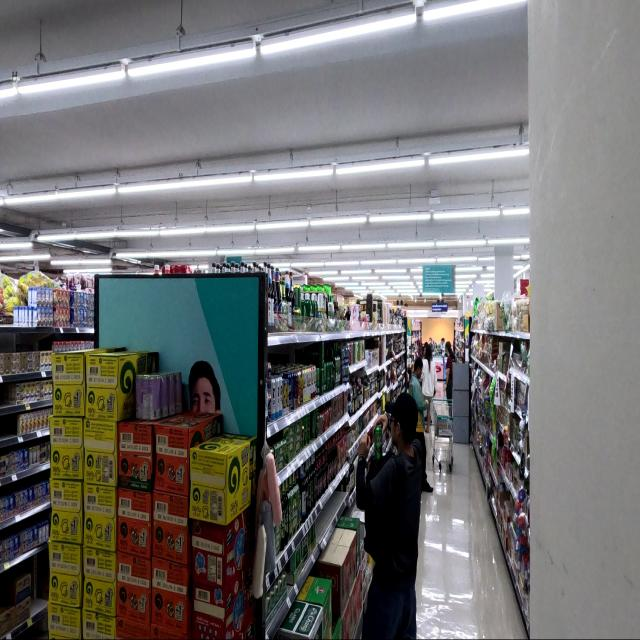shoplifting: (356, 398, 423, 640)
